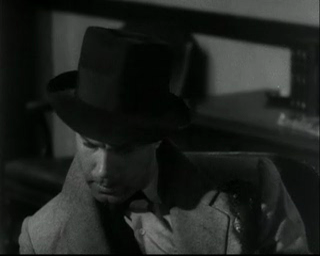cu: (1, 1, 320, 256)
face: (75, 133, 154, 203)
person: (18, 25, 312, 254)
